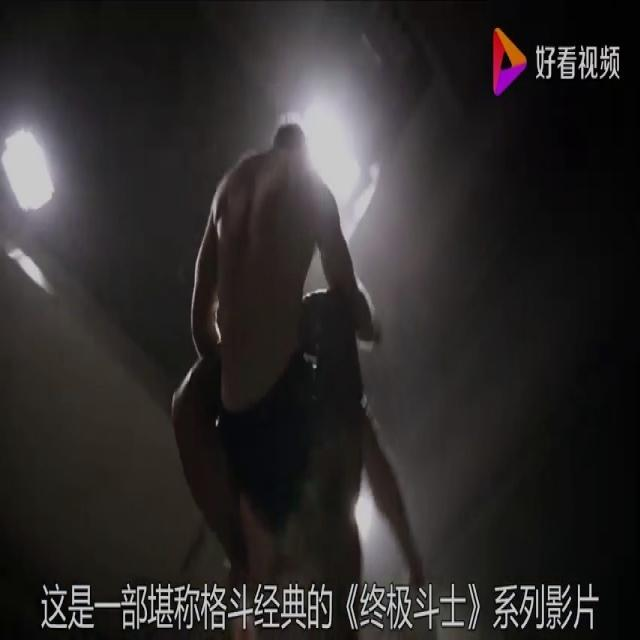fight: (167, 113, 419, 638)
